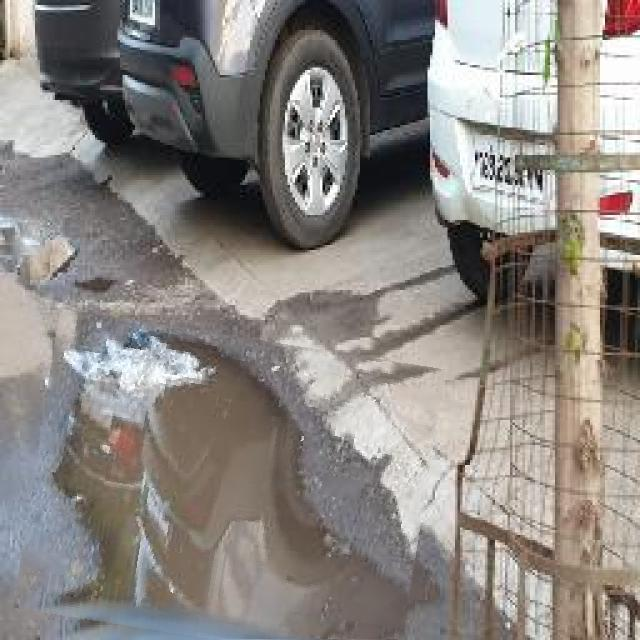puddle: (25, 323, 436, 640)
